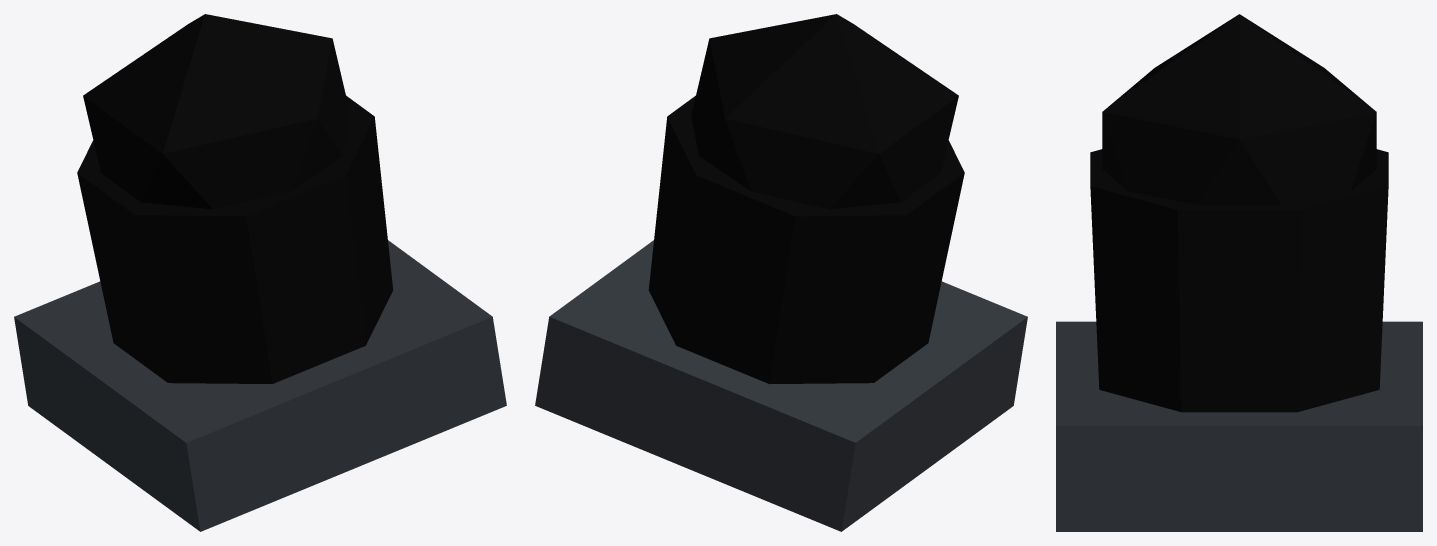
Rendered from inf_driver_lower_leg_l.fbx.
3 views of the same model, side by side, from view 1: azimuth 30°, elevation 25°; view 2: azimuth 150°, elevation 25°; view 3: azimuth 270°, elevation 25° (orthographic). The views are drawn at different scales.
Parts seen in each view (by area): view 1: inf_driver_lower_leg_l; view 2: inf_driver_lower_leg_l; view 3: inf_driver_lower_leg_l.
Boxes of the visible parts, x1,y1,x2,y2 form: inf_driver_lower_leg_l: (14, 14, 506, 531); inf_driver_lower_leg_l: (535, 14, 1027, 531); inf_driver_lower_leg_l: (1056, 14, 1422, 531).
Size of the model in its own units: 107 by 139 by 100.
